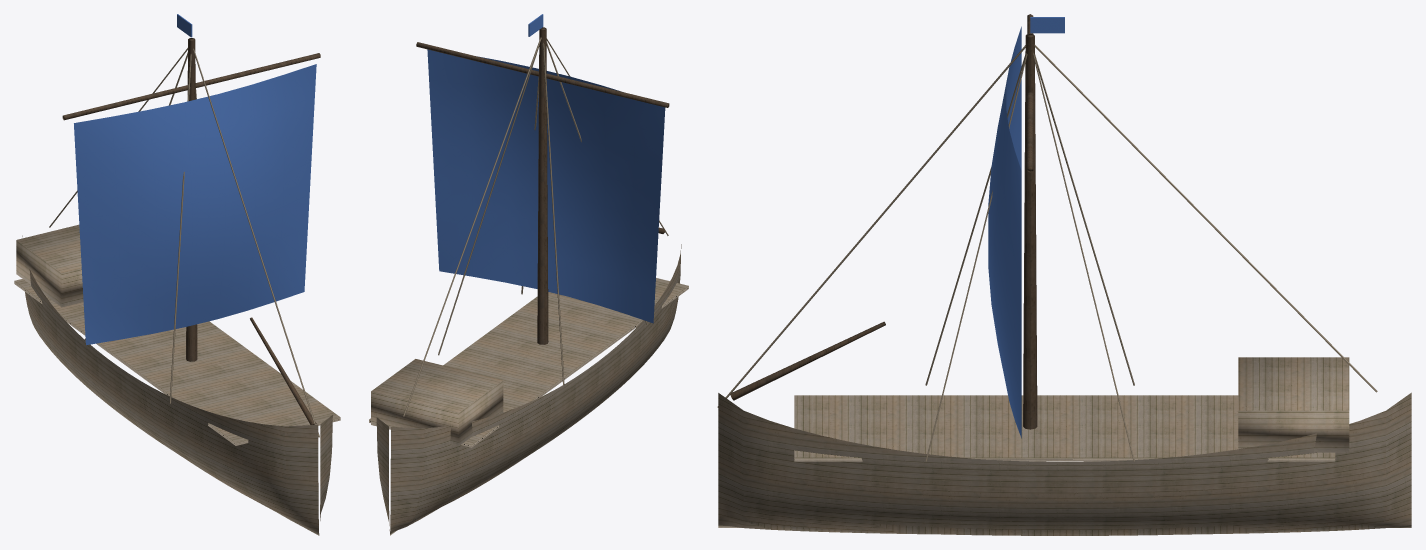
The model's file is ship_2.glb.
3 renders of one model, left to right at view 1: azimuth 30°, elevation 25°; view 2: azimuth 150°, elevation 25°; view 3: azimuth 270°, elevation 25°, orthographic. The views are drawn at different scales.
Parts seen in each view (by area): view 1: ship_2; view 2: ship_2; view 3: ship_2.
Part boxes in pixels (left/top/right/bottom): ship_2: left=14, top=14, right=340, bottom=535; ship_2: left=369, top=14, right=688, bottom=535; ship_2: left=717, top=14, right=1411, bottom=535.
Size of the model in its own units: 12.48 by 19.5 by 24.03.
Materials: 6 (5 with a texture image).
